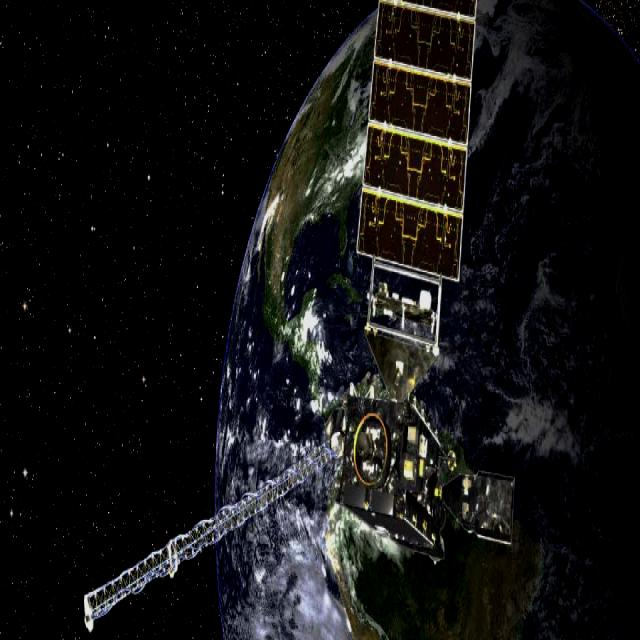medium_debris: (79, 2, 524, 631)
